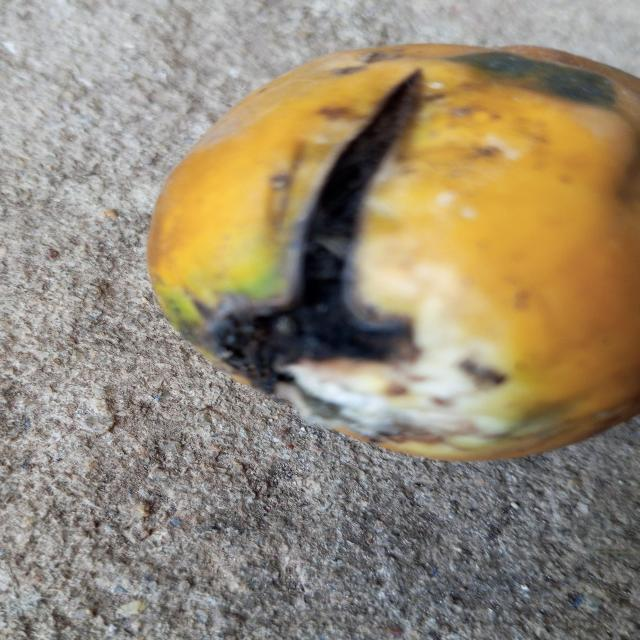damaged: (147, 45, 640, 465)
